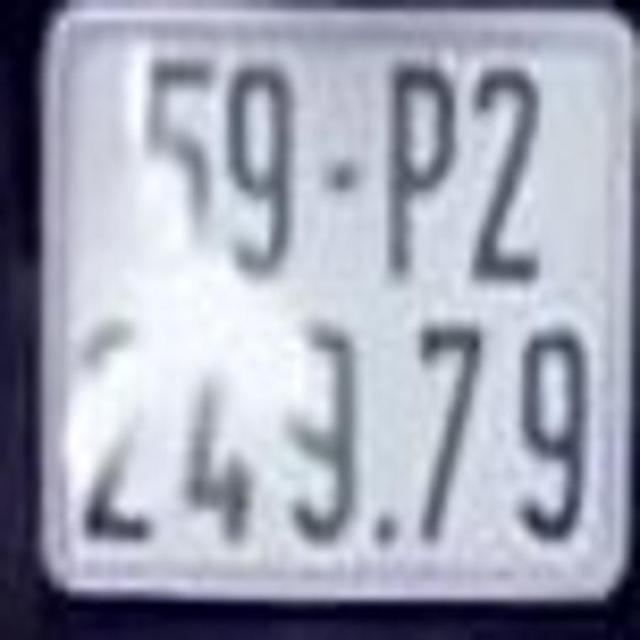2: (76, 319, 161, 548), (468, 58, 544, 289)
4: (176, 332, 259, 550)
5: (136, 53, 220, 272)
7: (407, 310, 486, 548)
9: (280, 316, 364, 551), (510, 315, 590, 551), (222, 51, 293, 280)
P: (377, 56, 458, 282)
